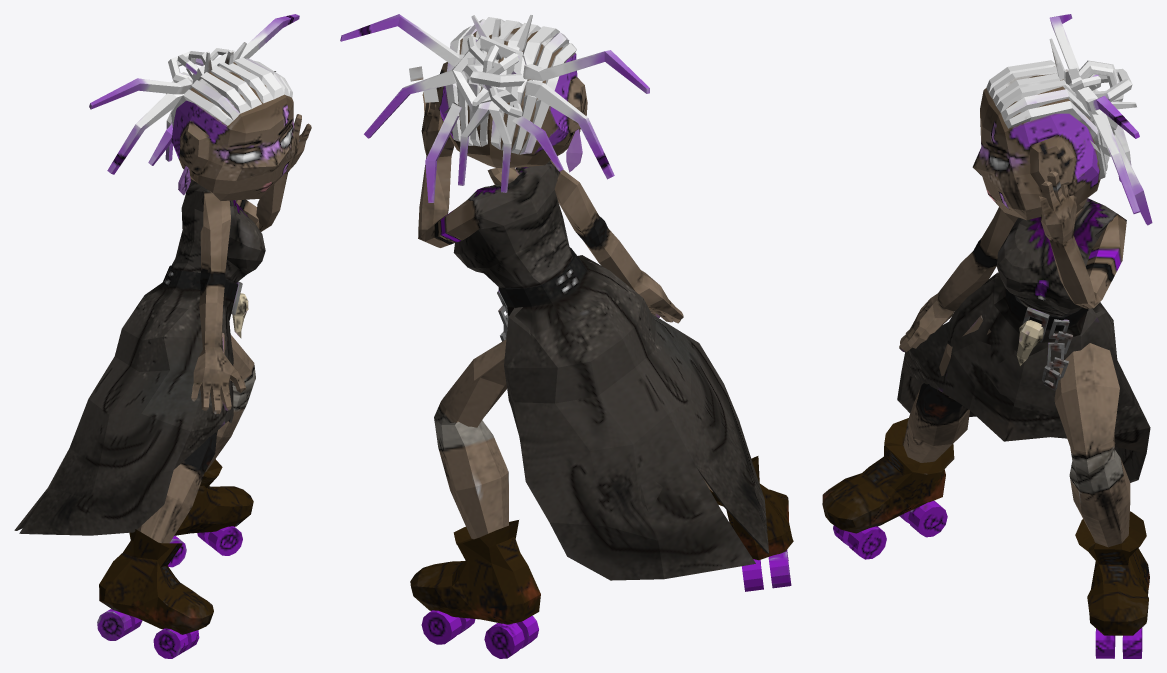
File: bruja_000038.obj
The picture shows the model from 3 angles, left to right: view 1: azimuth 30°, elevation 25°; view 2: azimuth 150°, elevation 25°; view 3: azimuth 270°, elevation 25°; orthographic projection. The views are drawn at different scales.
Parts seen in each view (by area): view 1: Bruja_Plane.001; view 2: Bruja_Plane.001; view 3: Bruja_Plane.001.
Part boxes in pixels (x1=…): Bruja_Plane.001: x1=14, y1=14, x2=311, y2=658; Bruja_Plane.001: x1=340, y1=14, x2=793, y2=658; Bruja_Plane.001: x1=822, y1=14, x2=1152, y2=658.
Size of the model in its own units: 9.97 by 15.43 by 7.75.
